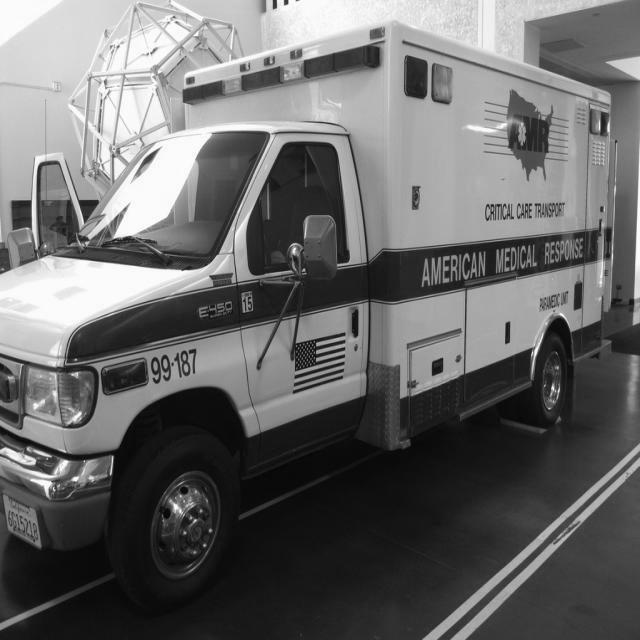Ambulance: (0, 23, 621, 617)
